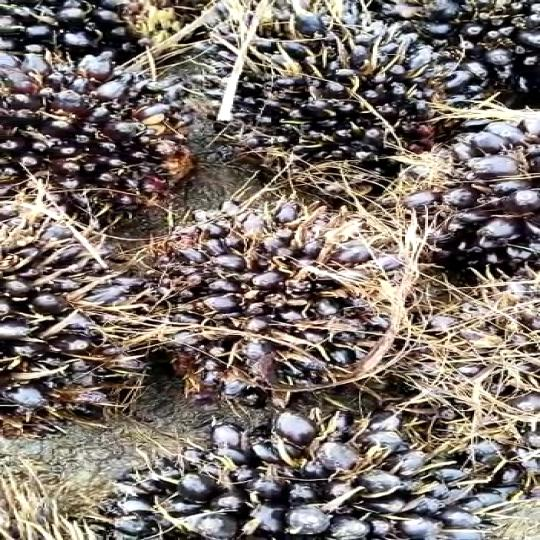mentah: (0, 401, 538, 540), (142, 196, 426, 399), (197, 7, 479, 197), (0, 46, 221, 210)
